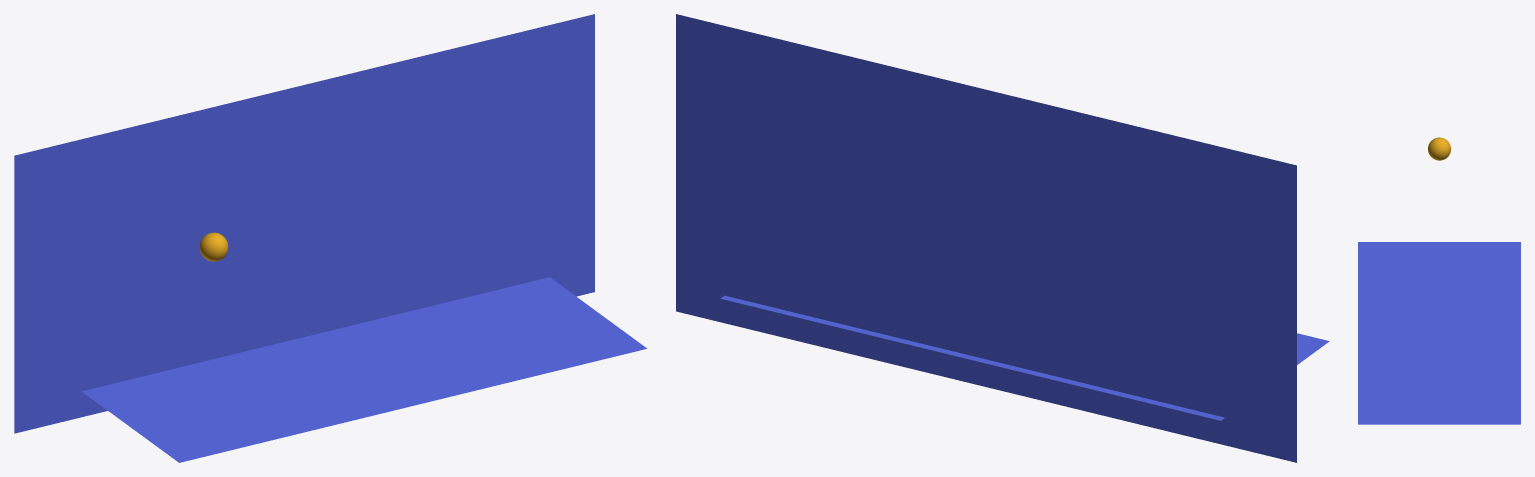
File: test_animation_export.gltf
3 views of the same model, side by side, from view 1: azimuth 30°, elevation 25°; view 2: azimuth 150°, elevation 25°; view 3: azimuth 270°, elevation 25° (orthographic). The views are drawn at different scales.
Parts seen in each view (by area): view 1: Plane.001, Plane, Sphere; view 2: Plane.001, Plane; view 3: Plane, Sphere.
Part boxes in pixels (bbox=[...]): Plane.001: bbox=[14, 14, 594, 433]; Plane: bbox=[82, 277, 647, 462]; Sphere: bbox=[199, 232, 228, 261]; Plane.001: bbox=[676, 14, 1296, 462]; Plane: bbox=[720, 295, 1329, 420]; Plane: bbox=[1358, 242, 1520, 424]; Sphere: bbox=[1428, 137, 1450, 160].
Bounding box in the file's own units: 46.22 × 21.15 × 14.03.
